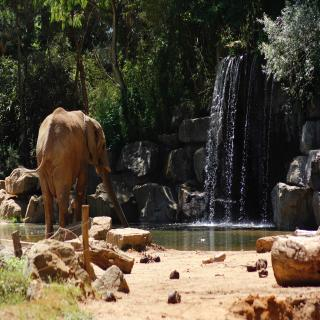Elephant: (23, 104, 136, 243)
